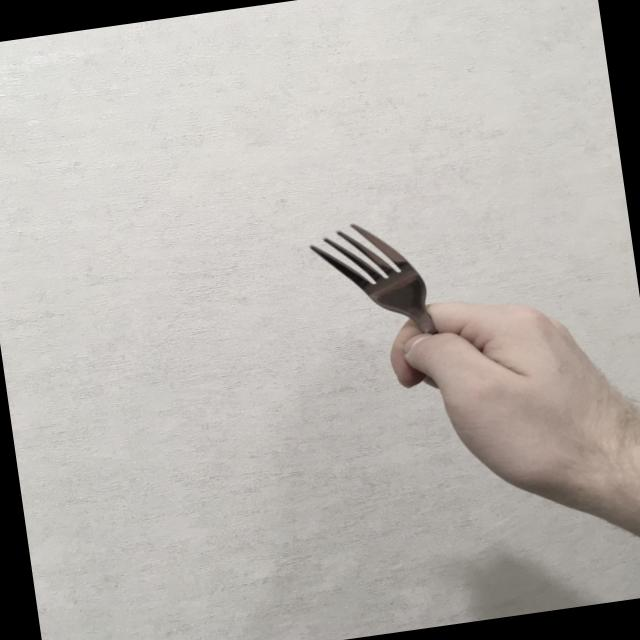fork: (307, 210, 450, 406)
